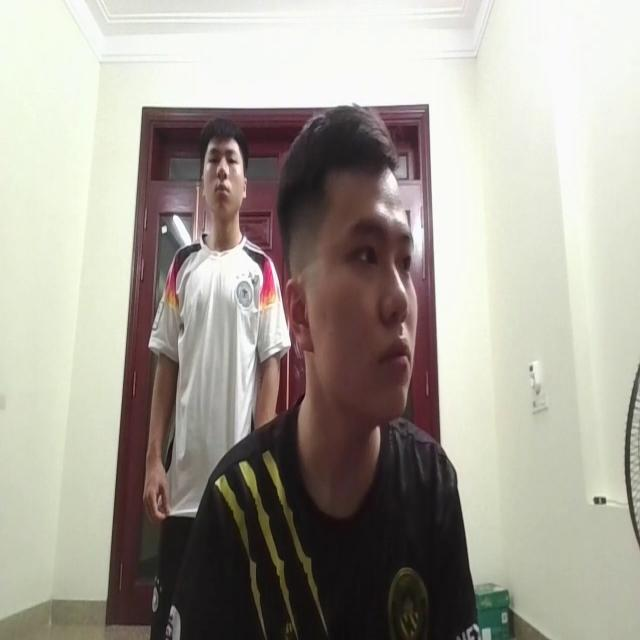extra_person: (145, 100, 285, 516)
student: (196, 106, 479, 640)
